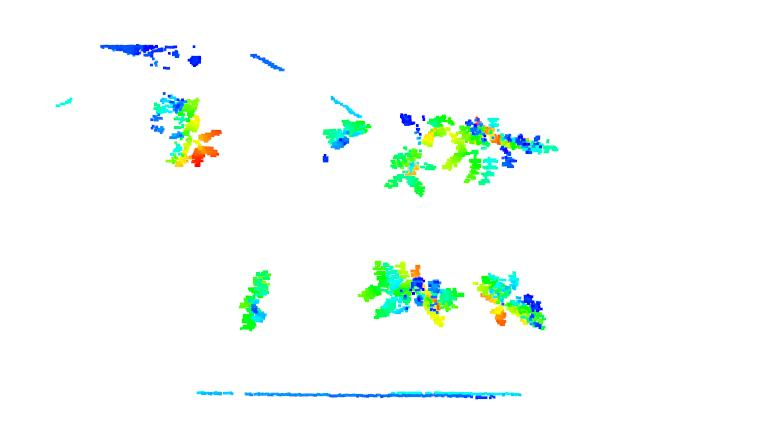chickpea: (452, 109, 561, 185), (358, 259, 467, 331), (382, 106, 457, 196), (144, 91, 225, 172), (470, 267, 547, 336), (311, 113, 370, 162), (233, 268, 273, 339)
